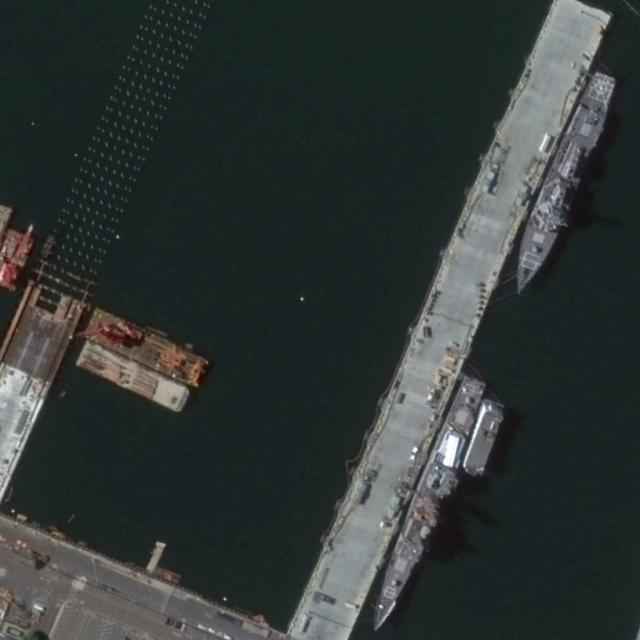Cruiser: (364, 372, 494, 638)
Destroyer: (503, 68, 621, 300)
